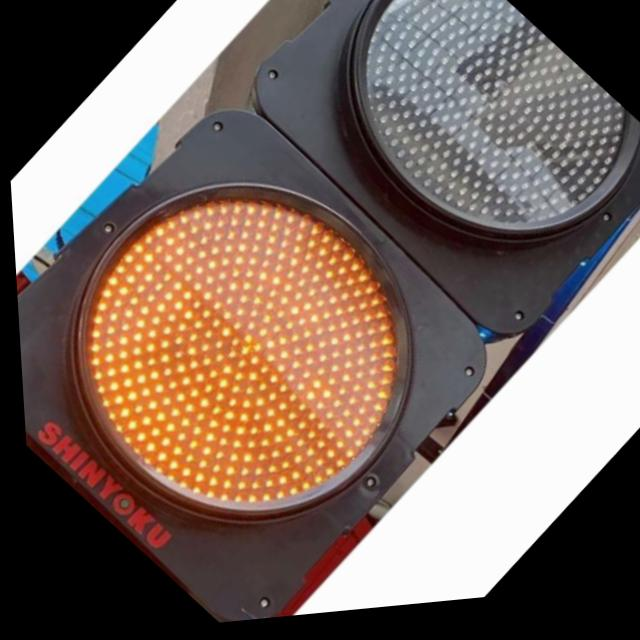Kuning: (6, 97, 487, 606)
